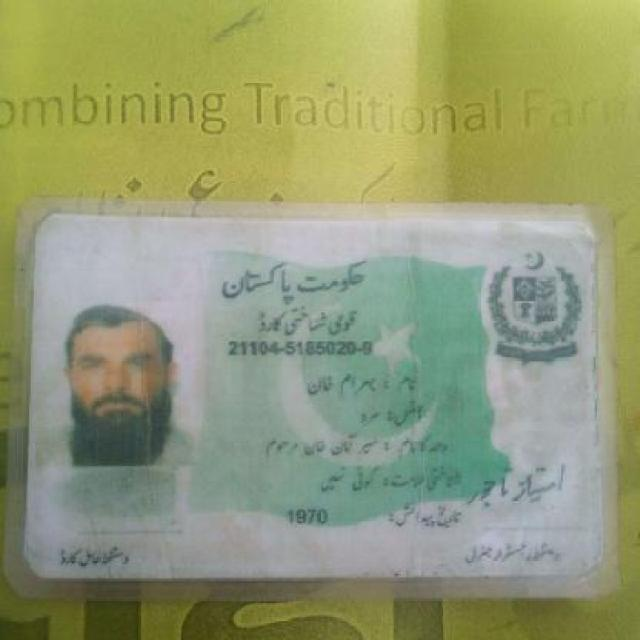Front: (16, 206, 616, 589)
